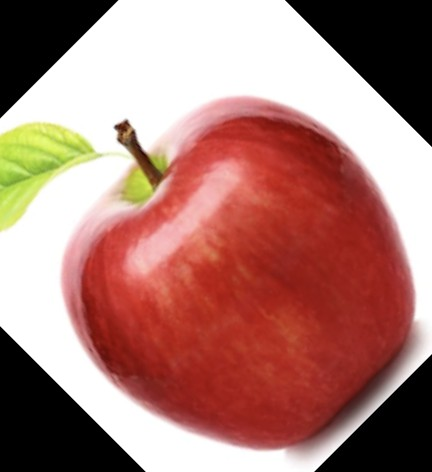fresh_apple: (63, 98, 418, 445)
